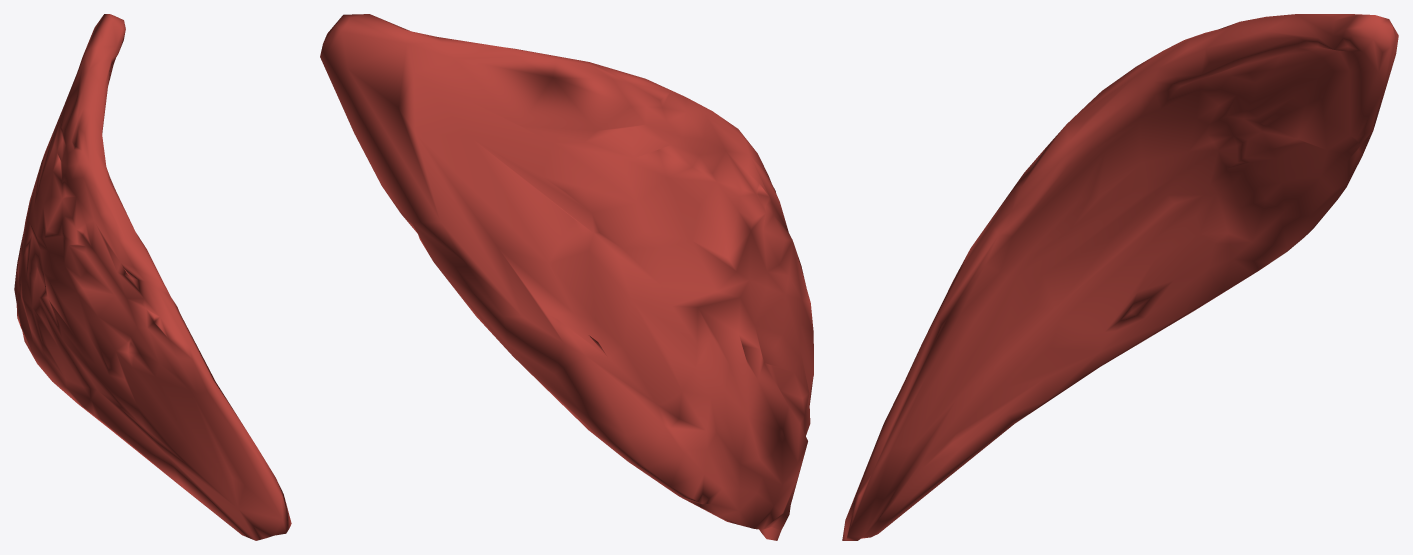
The model's file is musculos-lateral-crico-arytenoid-muscle-r.glb.
3 views of the same model, side by side, from view 1: azimuth 30°, elevation 25°; view 2: azimuth 150°, elevation 25°; view 3: azimuth 270°, elevation 25° (orthographic). The views are drawn at different scales.
Visible parts, largest first — view 1: Lateral crico-arytenoid muscle.r; view 2: Lateral crico-arytenoid muscle.r; view 3: Lateral crico-arytenoid muscle.r.
Boxes of the visible parts, left/top/right/bottom form: Lateral crico-arytenoid muscle.r: left=14, top=14, right=291, bottom=540; Lateral crico-arytenoid muscle.r: left=320, top=14, right=813, bottom=540; Lateral crico-arytenoid muscle.r: left=842, top=14, right=1398, bottom=540.
Size of the model in its own units: 0.00443 by 0.0107 by 0.00995.
